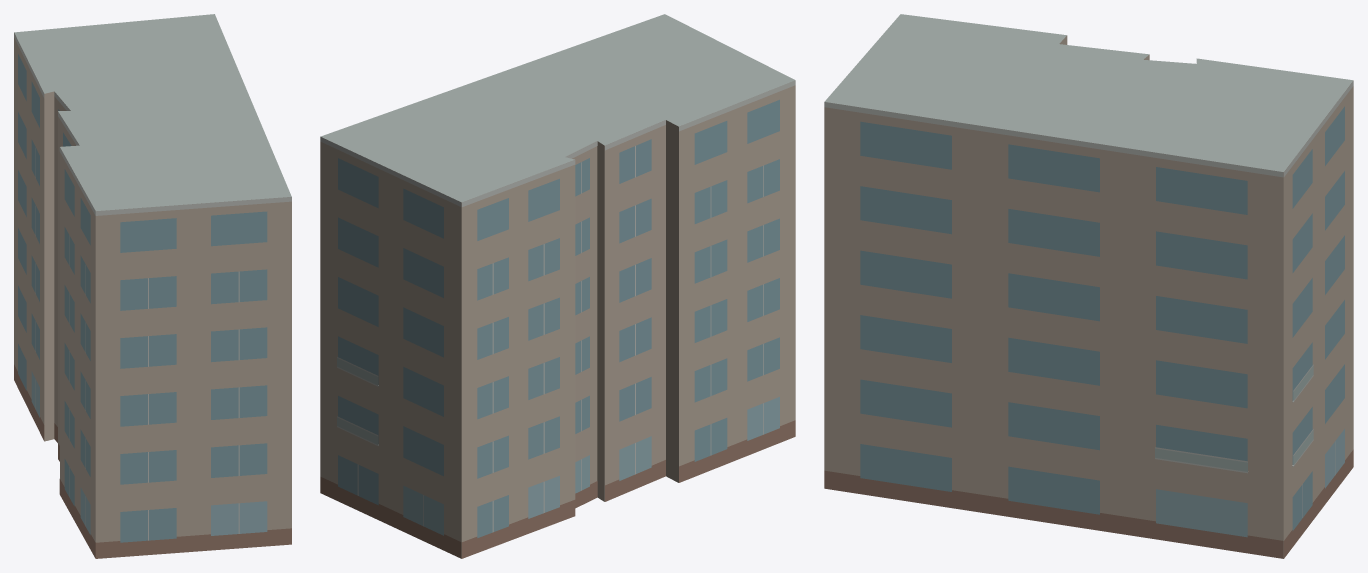
File: survey-upis-32566700.glb
3 renders of one model, left to right at view 1: azimuth 30°, elevation 25°; view 2: azimuth 150°, elevation 25°; view 3: azimuth 270°, elevation 25°, orthographic. The views are drawn at different scales.
Parts seen in each view (by area): view 1: survey-upis-32566700.tmp; view 2: survey-upis-32566700.tmp; view 3: survey-upis-32566700.tmp.
Boxes of the visible parts, box(x1,y1,x2,y2) form: survey-upis-32566700.tmp: box(14, 14, 291, 558); survey-upis-32566700.tmp: box(320, 14, 795, 558); survey-upis-32566700.tmp: box(824, 14, 1353, 558).
Bounding box in the file's own units: 15.53 × 17.7 × 21.96.
